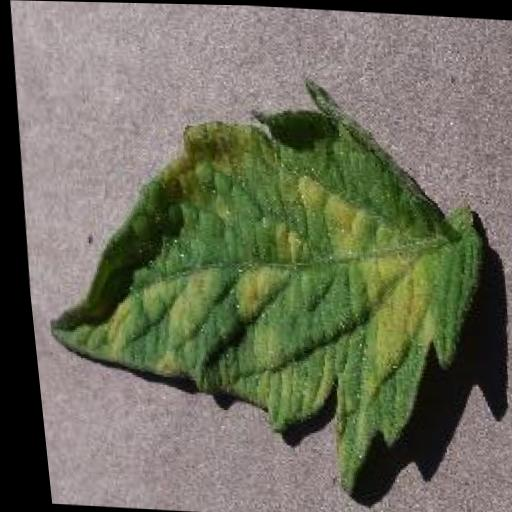Leaf Mold: (13, 59, 503, 503)
